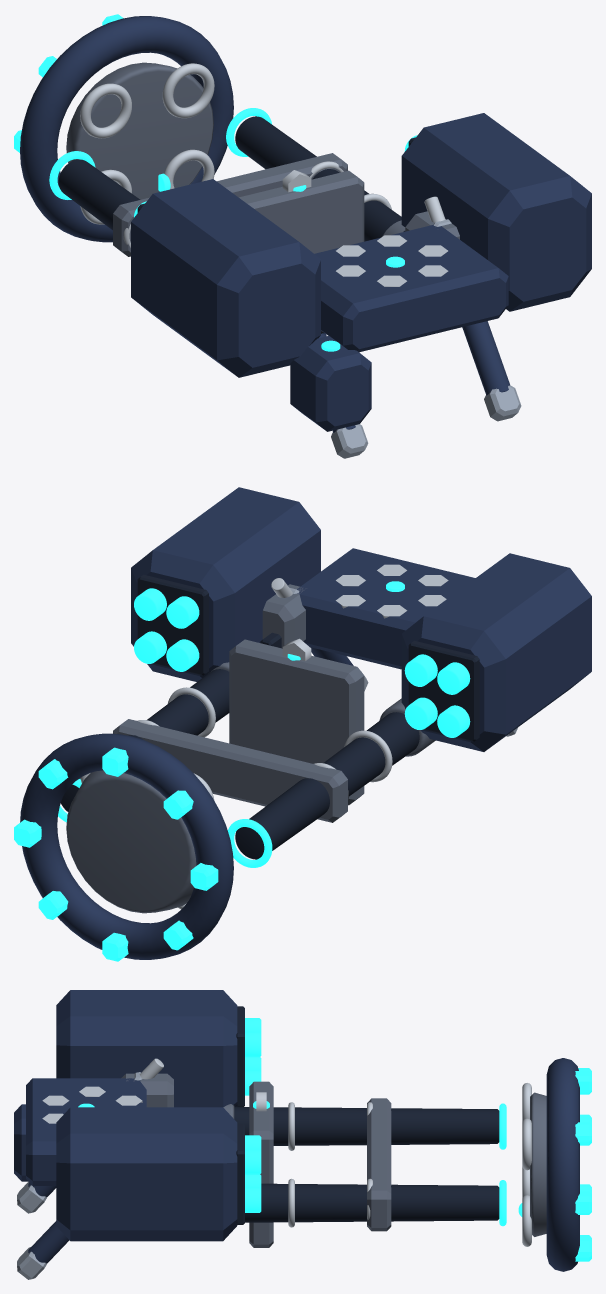
Rendered from tower_skywatch_damage_s10.glb.
The picture shows the model from 3 angles, top to bottom: view 1: azimuth 30°, elevation 25°; view 2: azimuth 150°, elevation 25°; view 3: azimuth 270°, elevation 25°; orthographic projection. The views are drawn at different scales.
Visible parts, largest first — view 1: skywatch_volley_shell_r, skywatch_volley_shell_l, skywatch_housing_armour, skywatch_fuse_ring, skywatch_fuse_collar, skywatch_barrel_clamp_b, skywatch_fuse_programmer, skywatch_barrel_b_l, skywatch_barrel_b_clamp, skywatch_barrel_b_r, skywatch_damper_l_body, skywatch_armour_bolts (+7 smaller); view 2: skywatch_volley_shell_r, skywatch_fuse_ring, skywatch_volley_shell_l, skywatch_fuse_collar, skywatch_barrel_clamp_b, skywatch_housing_armour, skywatch_barrel_b_clamp, skywatch_barrel_b_r, skywatch_volley_face_r, skywatch_volley_face_l, skywatch_barrel_b_l, skywatch_volley_mount_l (+18 smaller); view 3: skywatch_volley_shell_l, skywatch_volley_shell_r, skywatch_barrel_b_l, skywatch_barrel_b_r, skywatch_fuse_ring, skywatch_housing_armour, skywatch_barrel_b_clamp, skywatch_barrel_clamp_b, skywatch_fuse_collar, skywatch_volley_mount_r, skywatch_fuse_programmer, skywatch_damper_l_body (+10 smaller).
Part boxes in pixels (x1,y1,x2,y2): skywatch_volley_shell_r: [131, 179, 320, 377]; skywatch_volley_shell_l: [401, 113, 591, 311]; skywatch_housing_armour: [314, 225, 508, 352]; skywatch_fuse_ring: [20, 16, 233, 242]; skywatch_fuse_collar: [66, 62, 213, 199]; skywatch_barrel_clamp_b: [239, 170, 364, 253]; skywatch_fuse_programmer: [290, 336, 371, 431]; skywatch_barrel_b_l: [235, 116, 401, 241]; skywatch_barrel_b_clamp: [113, 153, 347, 256]; skywatch_barrel_b_r: [58, 159, 140, 230]; skywatch_damper_l_body: [462, 321, 509, 395]; skywatch_armour_bolts: [336, 235, 448, 286]; skywatch_volley_shell_r: [401, 553, 591, 751]; skywatch_fuse_ring: [20, 733, 233, 959]; skywatch_volley_shell_l: [131, 487, 320, 681]; skywatch_fuse_collar: [66, 770, 196, 913]; skywatch_barrel_clamp_b: [229, 639, 364, 805]; skywatch_housing_armour: [297, 548, 475, 669]; skywatch_barrel_b_clamp: [113, 719, 347, 822]; skywatch_barrel_b_r: [235, 712, 419, 859]; skywatch_volley_face_r: [408, 640, 479, 741]; skywatch_volley_face_l: [137, 574, 208, 675]; skywatch_barrel_b_l: [61, 669, 229, 811]; skywatch_volley_mount_l: [262, 584, 306, 648]; skywatch_volley_shell_l: [56, 1107, 237, 1241]; skywatch_volley_shell_r: [56, 990, 237, 1107]; skywatch_barrel_b_l: [245, 1183, 499, 1222]; skywatch_barrel_b_r: [234, 1107, 499, 1145]; skywatch_fuse_ring: [546, 1058, 579, 1271]; skywatch_housing_armour: [26, 1078, 146, 1185]; skywatch_barrel_b_clamp: [367, 1098, 391, 1231]; skywatch_barrel_clamp_b: [249, 1081, 273, 1247]; skywatch_fuse_collar: [530, 1092, 546, 1236]; skywatch_volley_mount_r: [121, 1073, 173, 1107]; skywatch_fuse_programmer: [14, 1104, 28, 1181]; skywatch_damper_l_body: [28, 1221, 69, 1263].
Size of the model in its own units: 1.27 by 0.7318 by 1.92.
